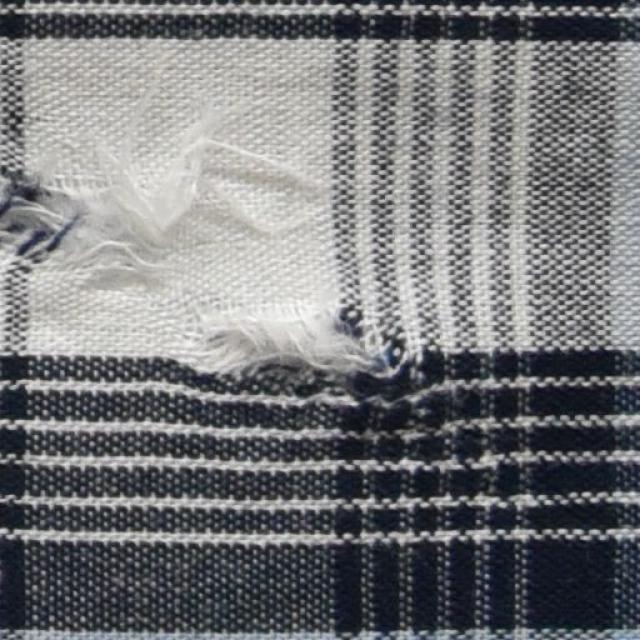Snag: (0, 136, 331, 278), (185, 294, 408, 401)
